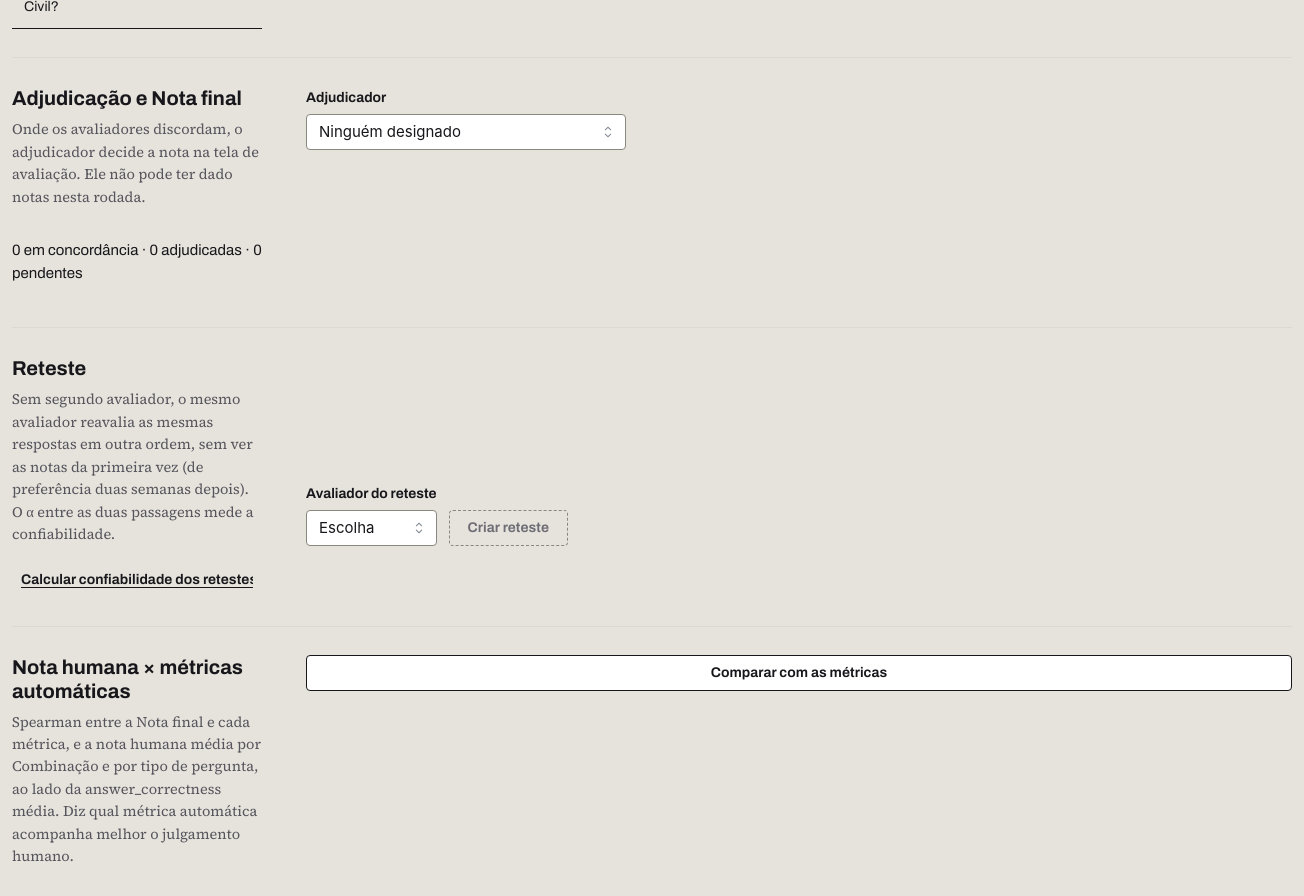
RodadaDetailPage › compares the human Nota final with the automatic metrics on demand
(page scrolled)
Click the button "Comparar com as métricas" at (799, 672), box x1=306 y1=654 x2=1292 y2=690
(page scrolled)
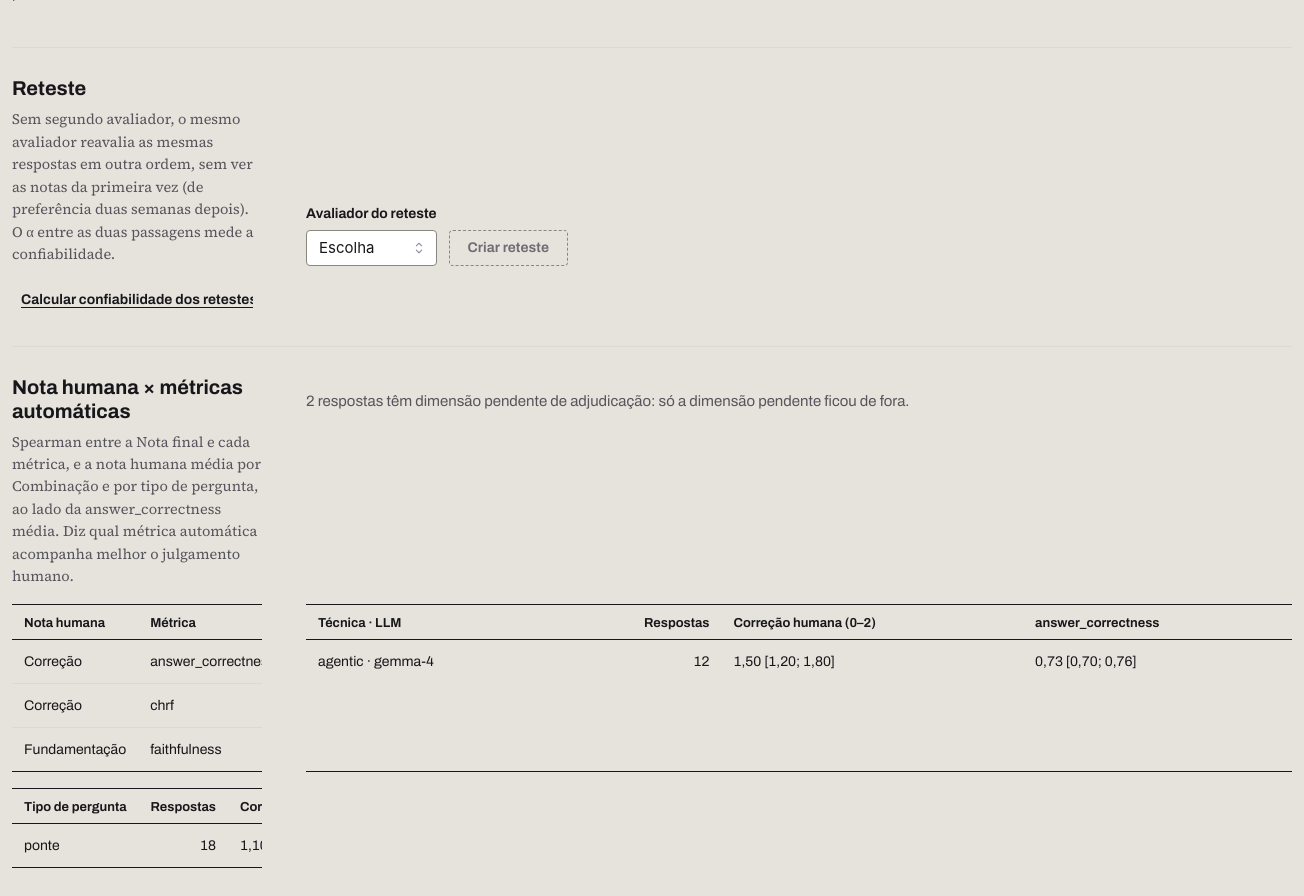
Check: the text "2 respostas têm dimensão pendente de adjudicação" is shown, box x1=306 y1=392 x2=910 y2=408
Check: the text "1,50 [1,20; 1,80]" is shown, box x1=722 y1=640 x2=1023 y2=683
Check: the text "0,73 [0,70; 0,76]" is shown, box x1=1023 y1=640 x2=1292 y2=683
